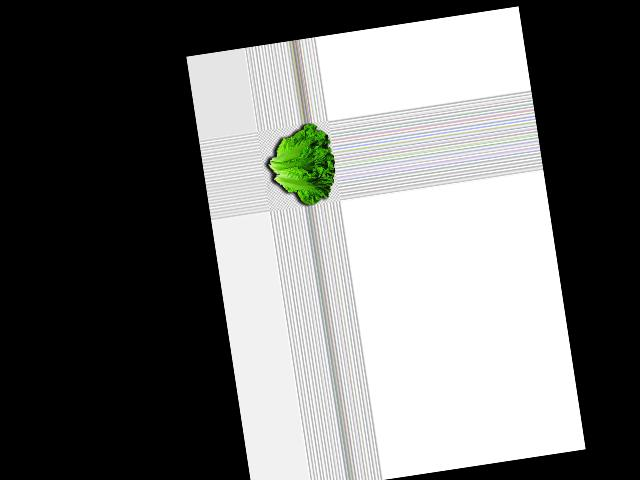lettuce: (262, 122, 340, 212)
